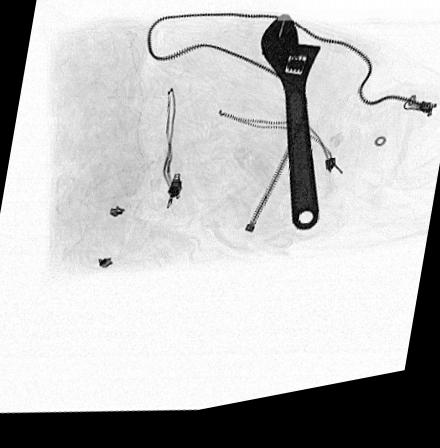Wrench: (258, 21, 320, 242)
